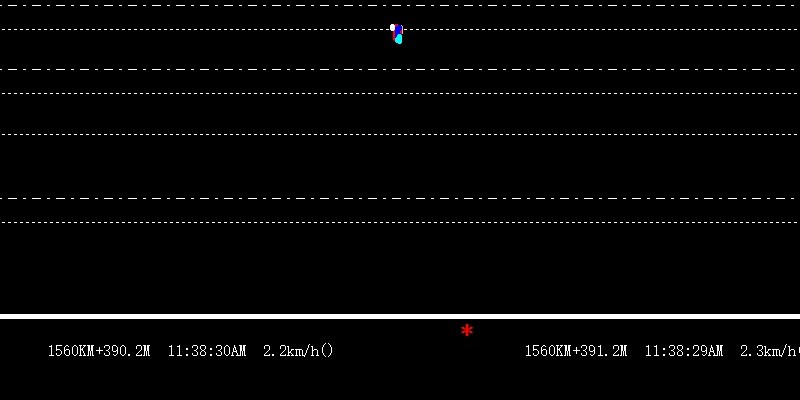face_2: (390, 21, 404, 46)
star: (458, 321, 477, 338)
